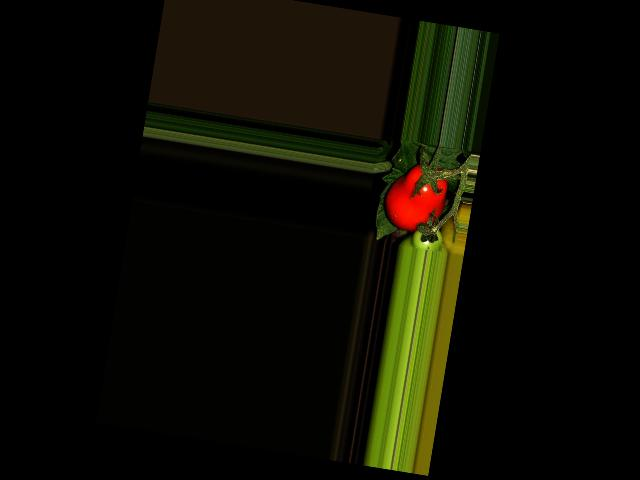tomato: (381, 158, 450, 235)
